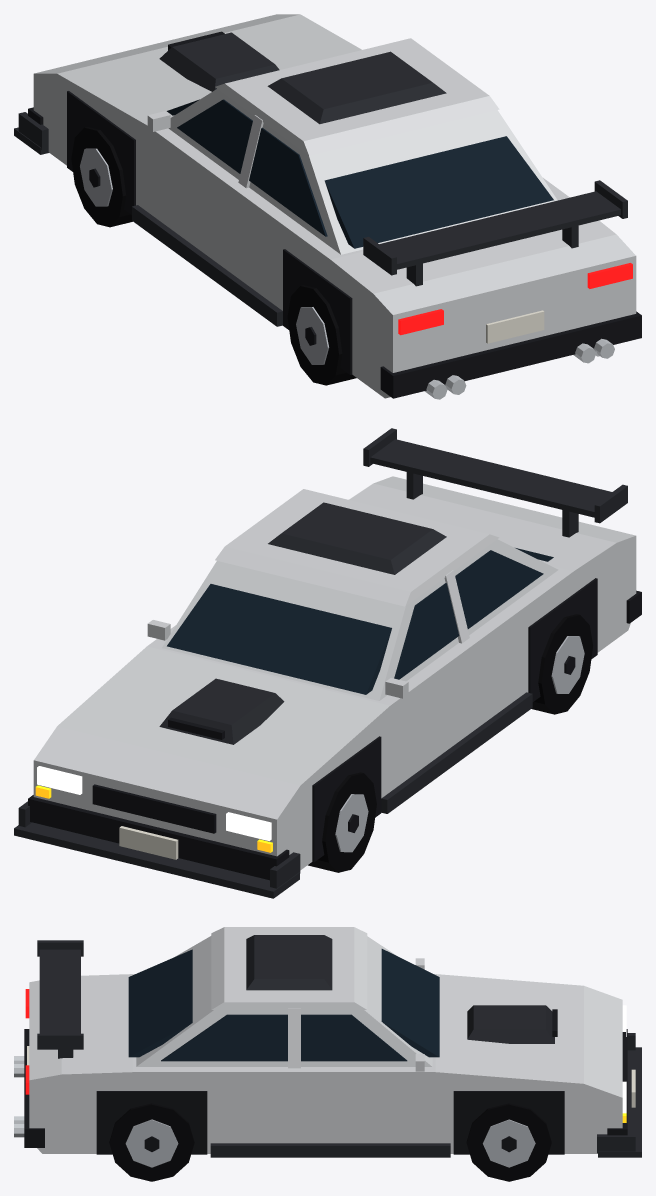
File: car_sedan.glb
3 renders of one model, top to bottom at view 1: azimuth 30°, elevation 25°; view 2: azimuth 150°, elevation 25°; view 3: azimuth 270°, elevation 25°, orthographic. The views are drawn at different scales.
Parts seen in each view (by area): view 1: car_sedan__body, car_sedan__mod_spoiler, car_sedan__mod_roof, car_sedan__wheel_rl, car_sedan__mod_hood, car_sedan__wheel_fl, car_sedan__mod_skirts, car_sedan__mod_exhaust, car_sedan__mod_bumper; view 2: car_sedan__body, car_sedan__mod_spoiler, car_sedan__mod_roof, car_sedan__mod_bumper, car_sedan__mod_hood, car_sedan__wheel_fl, car_sedan__wheel_rl, car_sedan__mod_skirts; view 3: car_sedan__body, car_sedan__wheel_fr, car_sedan__wheel_rr, car_sedan__mod_spoiler, car_sedan__mod_roof, car_sedan__mod_skirts, car_sedan__mod_hood, car_sedan__mod_bumper, car_sedan__mod_exhaust.
Part boxes in pixels (<box>): car_sedan__body: <box>28,14,641,398</box>; car_sedan__mod_spoiler: <box>363,180,627,286</box>; car_sedan__mod_roof: <box>267,51,446,124</box>; car_sedan__wheel_rl: <box>287,285,356,385</box>; car_sedan__mod_hood: <box>159,31,279,91</box>; car_sedan__wheel_fl: <box>71,127,132,227</box>; car_sedan__mod_skirts: <box>132,205,282,326</box>; car_sedan__mod_exhaust: <box>424,338,614,399</box>; car_sedan__mod_bumper: <box>14,112,48,154</box>; car_sedan__body: <box>28,476,641,880</box>; car_sedan__mod_spoiler: <box>363,428,627,537</box>; car_sedan__mod_roof: <box>268,502,446,574</box>; car_sedan__mod_bumper: <box>14,801,300,898</box>; car_sedan__mod_hood: <box>159,678,284,744</box>; car_sedan__wheel_fl: <box>308,772,376,872</box>; car_sedan__wheel_rl: <box>531,614,592,714</box>; car_sedan__mod_skirts: <box>381,692,532,813</box>; car_sedan__body: <box>24,927,635,1154</box>; car_sedan__wheel_fr: <box>466,1103,551,1181</box>; car_sedan__wheel_rr: <box>109,1103,194,1181</box>; car_sedan__mod_spoiler: <box>37,940,83,1058</box>; car_sedan__mod_roof: <box>246,935,332,990</box>; car_sedan__mod_skirts: <box>210,1143,450,1157</box>; car_sedan__mod_hood: <box>467,1005,557,1043</box>; car_sedan__mod_bumper: <box>597,1033,641,1157</box>; car_sedan__mod_exhaust: <box>14,1056,24,1137</box>.
Size of the model in its own units: 1.93 by 1.49 by 4.87.
